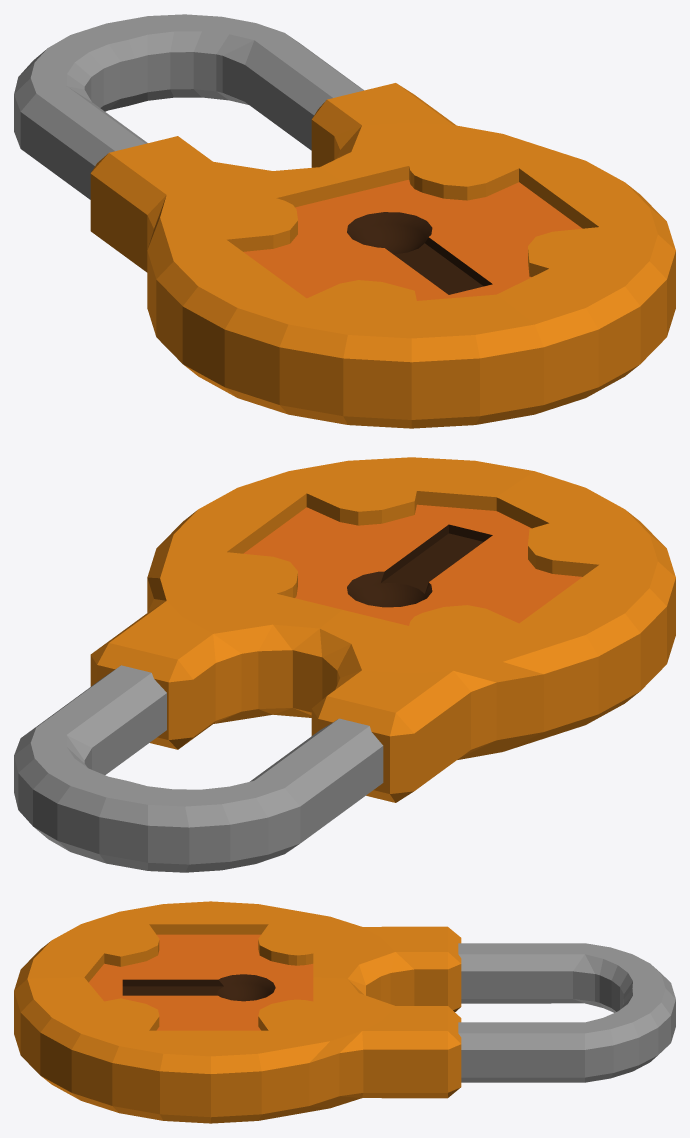
Rendered from Lock.fbx.
3 renders of one model, top to bottom at view 1: azimuth 30°, elevation 25°; view 2: azimuth 150°, elevation 25°; view 3: azimuth 270°, elevation 25°, orthographic. The views are drawn at different scales.
Parts seen in each view (by area): view 1: Circle; view 2: Circle; view 3: Circle.
Boxes of the visible parts, bbox=[...] form: Circle: bbox=[14, 14, 675, 428]; Circle: bbox=[14, 457, 675, 872]; Circle: bbox=[14, 901, 675, 1123].
Bounding box in the file's own units: 200 × 38.45 × 336.
